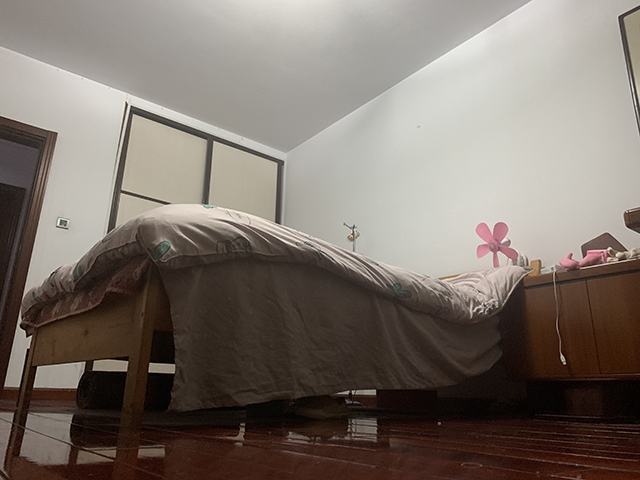bed: (14, 202, 530, 427)
cabinet: (498, 258, 640, 419)
